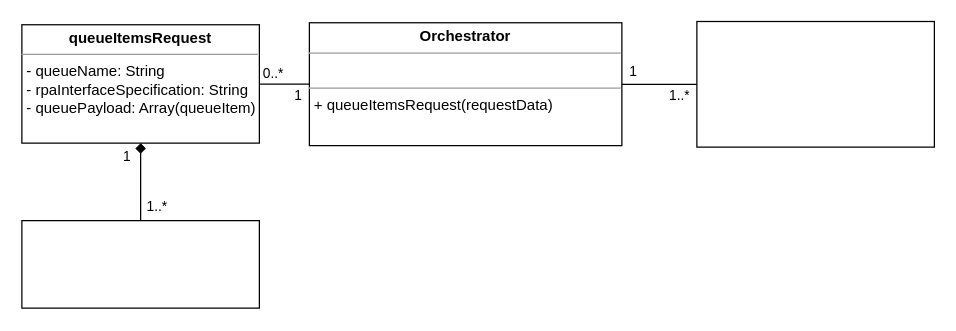
Some shapes in this 956 by 331 pixel diagram are drawn without their labels. Here are the shapes that lost their labels. From the top down, the centre of each, then its label:
(x=815, y=83): RPA Interface + addToQueue(payload)
(x=140, y=263): queueItem - priority: Integer - data: Dictionary
